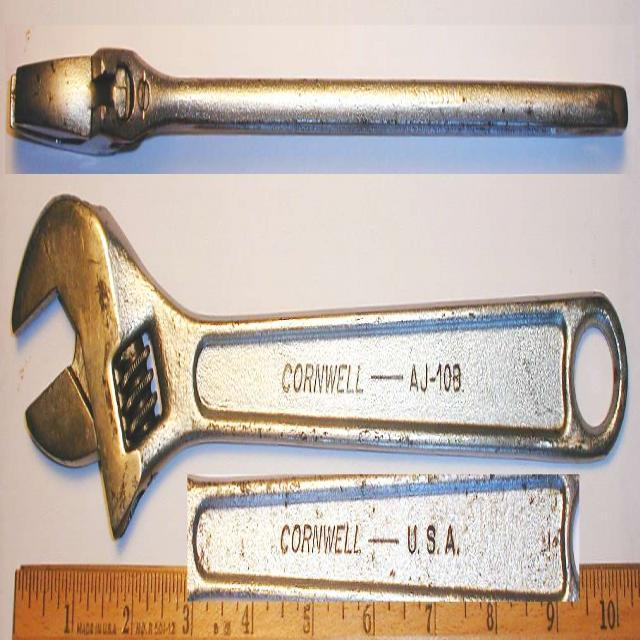wrench: (8, 187, 632, 544), (7, 34, 630, 182)
